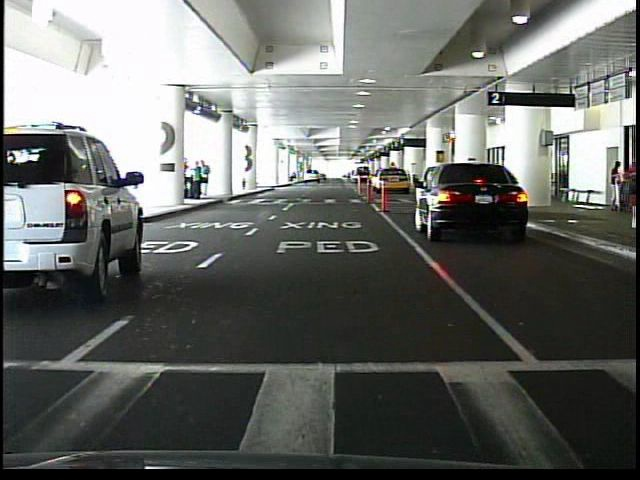person: (607, 161, 622, 214), (189, 160, 202, 200), (201, 161, 212, 198)
